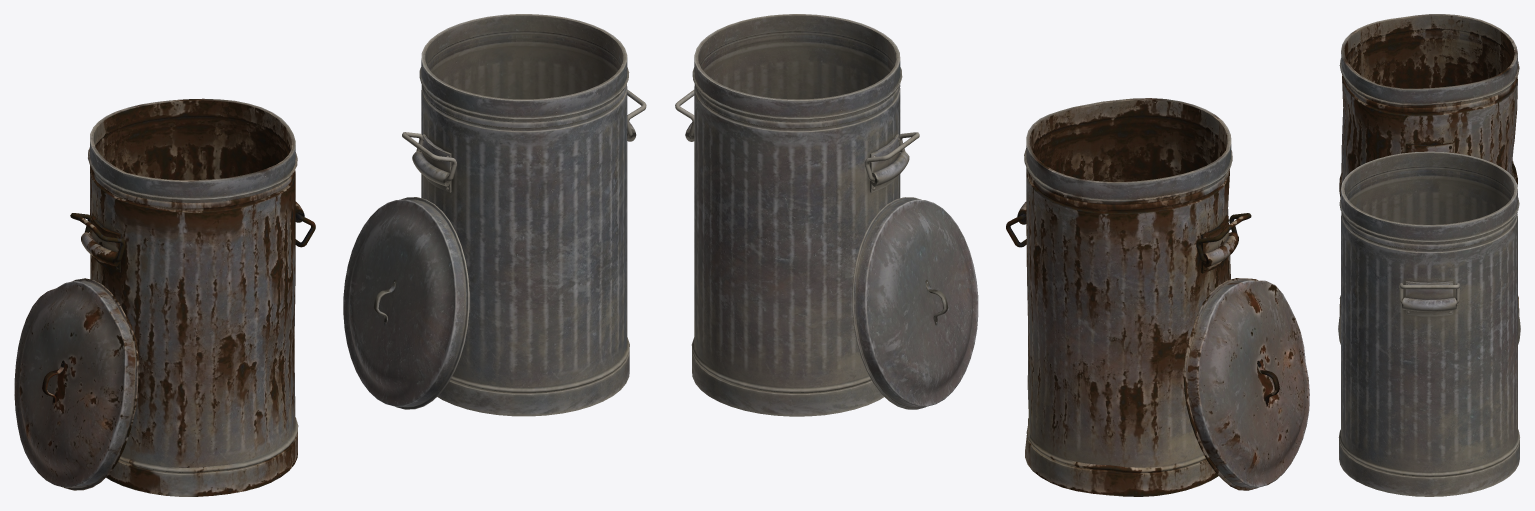
File: metal_trash_can.glb
3 views of the same model, side by side, from view 1: azimuth 30°, elevation 25°; view 2: azimuth 150°, elevation 25°; view 3: azimuth 270°, elevation 25° (orthographic). The views are drawn at different scales.
Parts seen in each view (by area): view 1: metal_trash_can, metal_trash_can_rust, metal_trash_can_lid, metal_trash_can_rust_lid; view 2: metal_trash_can, metal_trash_can_rust, metal_trash_can_lid, metal_trash_can_rust_lid; view 3: metal_trash_can, metal_trash_can_rust, metal_trash_can_handle_right.
Boxes of the visible parts, left/top/right/bottom form: metal_trash_can: left=412, top=14, right=636, bottom=416; metal_trash_can_rust: left=81, top=98, right=304, bottom=496; metal_trash_can_lid: left=343, top=197, right=469, bottom=409; metal_trash_can_rust_lid: left=14, top=278, right=138, bottom=490; metal_trash_can: left=685, top=14, right=909, bottom=416; metal_trash_can_rust: left=1017, top=98, right=1238, bottom=496; metal_trash_can_lid: left=852, top=197, right=978, bottom=409; metal_trash_can_rust_lid: left=1183, top=278, right=1309, bottom=490; metal_trash_can: left=1338, top=151, right=1519, bottom=496; metal_trash_can_rust: left=1339, top=14, right=1519, bottom=315; metal_trash_can_handle_right: left=1399, top=283, right=1459, bottom=303.
Size of the model in its own units: 1.78 by 0.9062 by 0.5563.
Materials: 3 (3 with a texture image).
